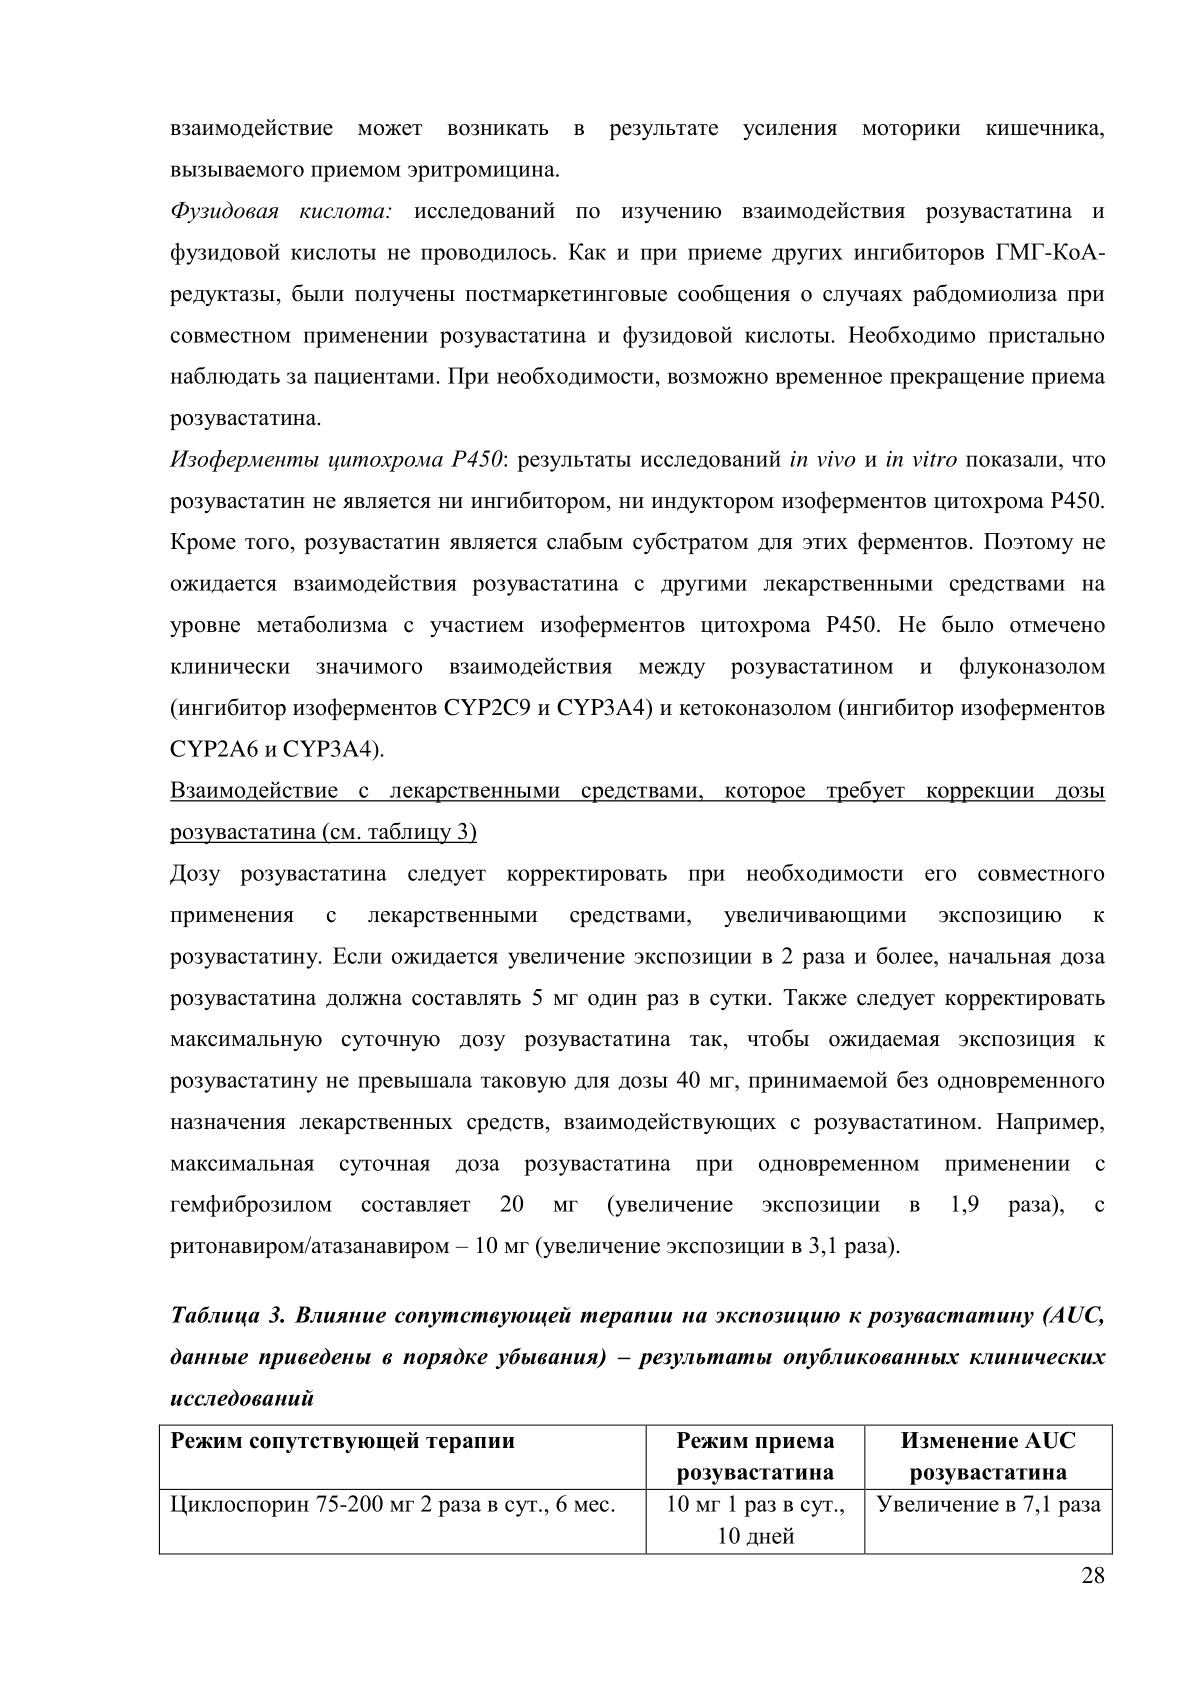full_lined: (156, 1422, 1110, 1554)
